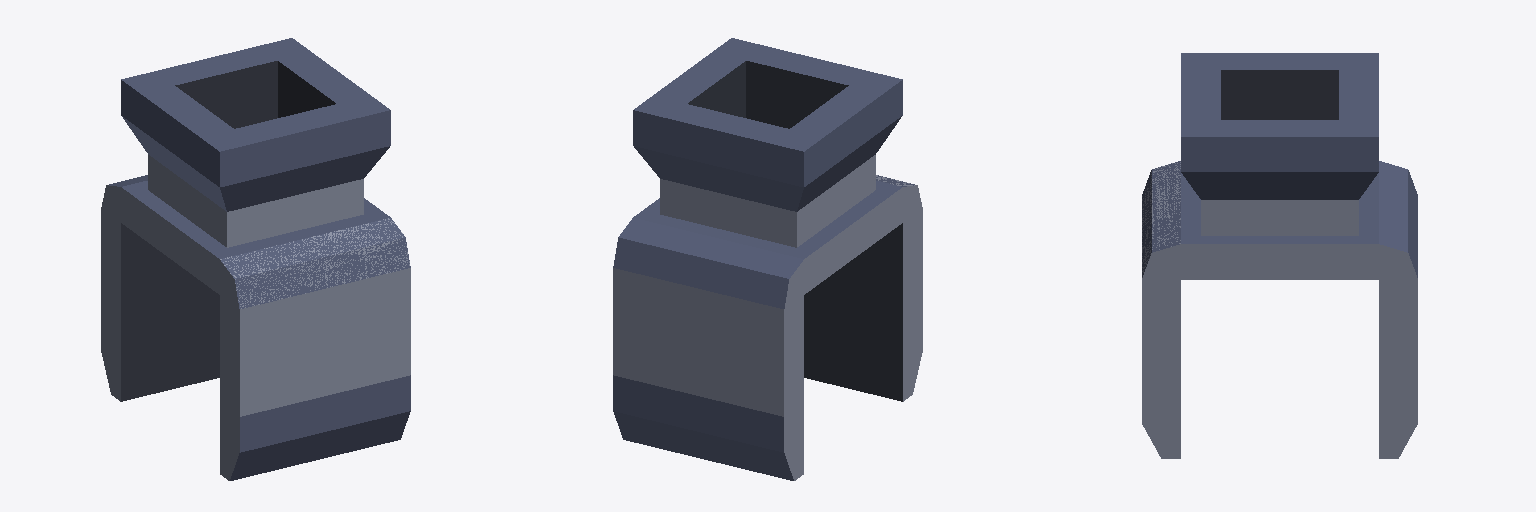
The model's file is cover-hopper.obj.
The picture shows the model from 3 angles: view 1: azimuth 30°, elevation 25°; view 2: azimuth 150°, elevation 25°; view 3: azimuth 270°, elevation 25°; orthographic projection.
Parts seen in each view (by area): view 1: cover-hopper; view 2: cover-hopper; view 3: cover-hopper.
Part boxes in pixels (bbox=[...]): cover-hopper: bbox=[101, 38, 410, 480]; cover-hopper: bbox=[613, 38, 922, 480]; cover-hopper: bbox=[1142, 53, 1417, 458].
Bounding box in the file's own units: 1 × 1.8 × 1.4.